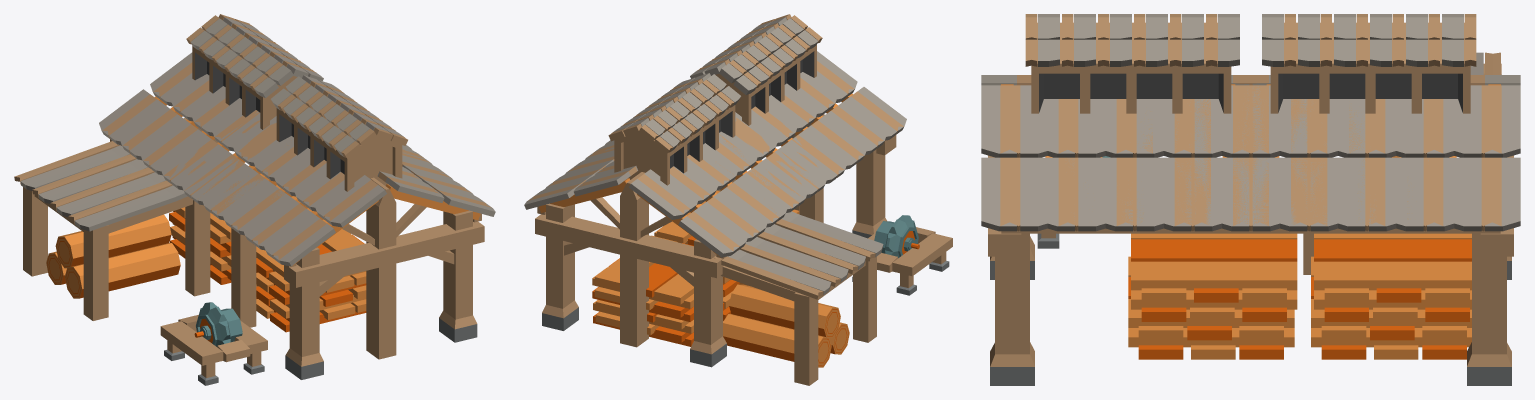
The model's file is Pabrik kayu .fbx.
The picture shows the model from 3 angles, left to right: view 1: azimuth 30°, elevation 25°; view 2: azimuth 150°, elevation 25°; view 3: azimuth 270°, elevation 25°; orthographic projection. The views are drawn at different scales.
Parts seen in each view (by area): view 1: Pabrik kayu; view 2: Pabrik kayu; view 3: Pabrik kayu.
Part boxes in pixels (x1,y1,x2,y2): Pabrik kayu: [14, 14, 495, 385]; Pabrik kayu: [524, 14, 952, 385]; Pabrik kayu: [981, 14, 1520, 385].
Bounding box in the file's own units: 6.06 × 4.2 × 6.62.
